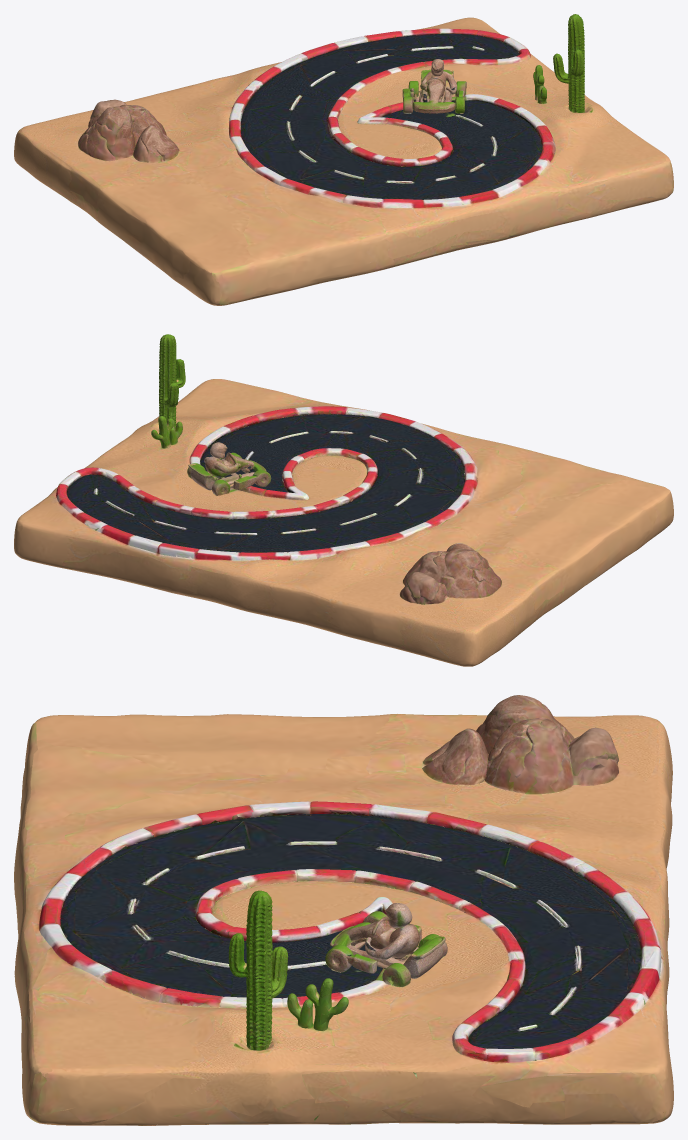
Rendered from canyonTrack.0a2d9555.glb.
3 views of the same model, one above another, from view 1: azimuth 30°, elevation 25°; view 2: azimuth 150°, elevation 25°; view 3: azimuth 270°, elevation 25° (orthographic). The views are drawn at different scales.
Parts seen in each view (by area): view 1: output_unwrapped; view 2: output_unwrapped; view 3: output_unwrapped.
Part boxes in pixels (bbox=[...]): output_unwrapped: bbox=[14, 14, 673, 305]; output_unwrapped: bbox=[14, 334, 673, 666]; output_unwrapped: bbox=[14, 695, 673, 1125].
Size of the model in its own units: 1.9 by 0.5252 by 1.46.
1 material, 1 textured.
